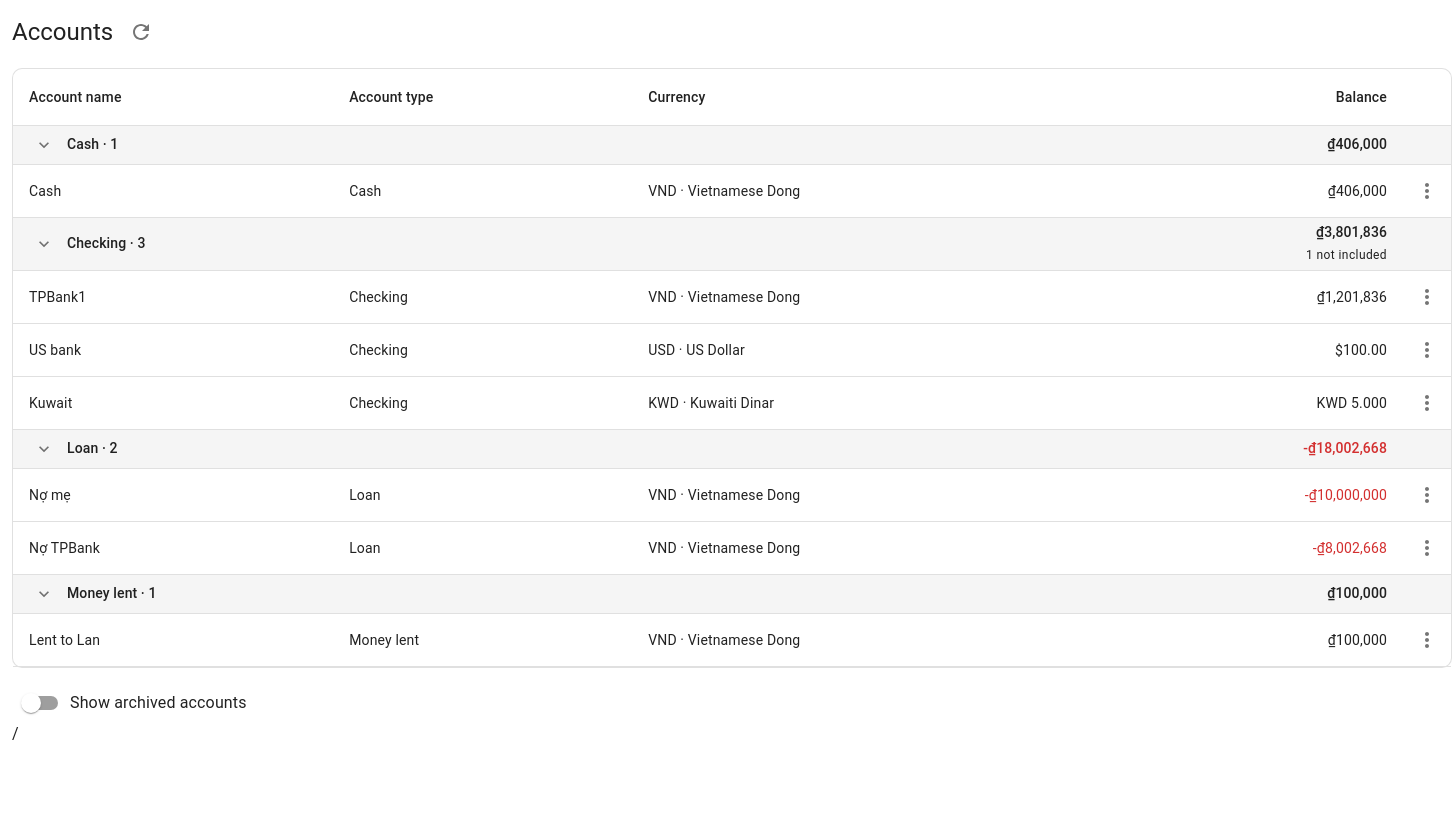
it: pinning accounts to the Overview (waterflow#74, waterflow#88) › on desktop › lets a viewer pin too: a pin is their own view
Click the 1st button named "Account actions".
click(1427, 191)  # box [1407, 171, 1447, 211]
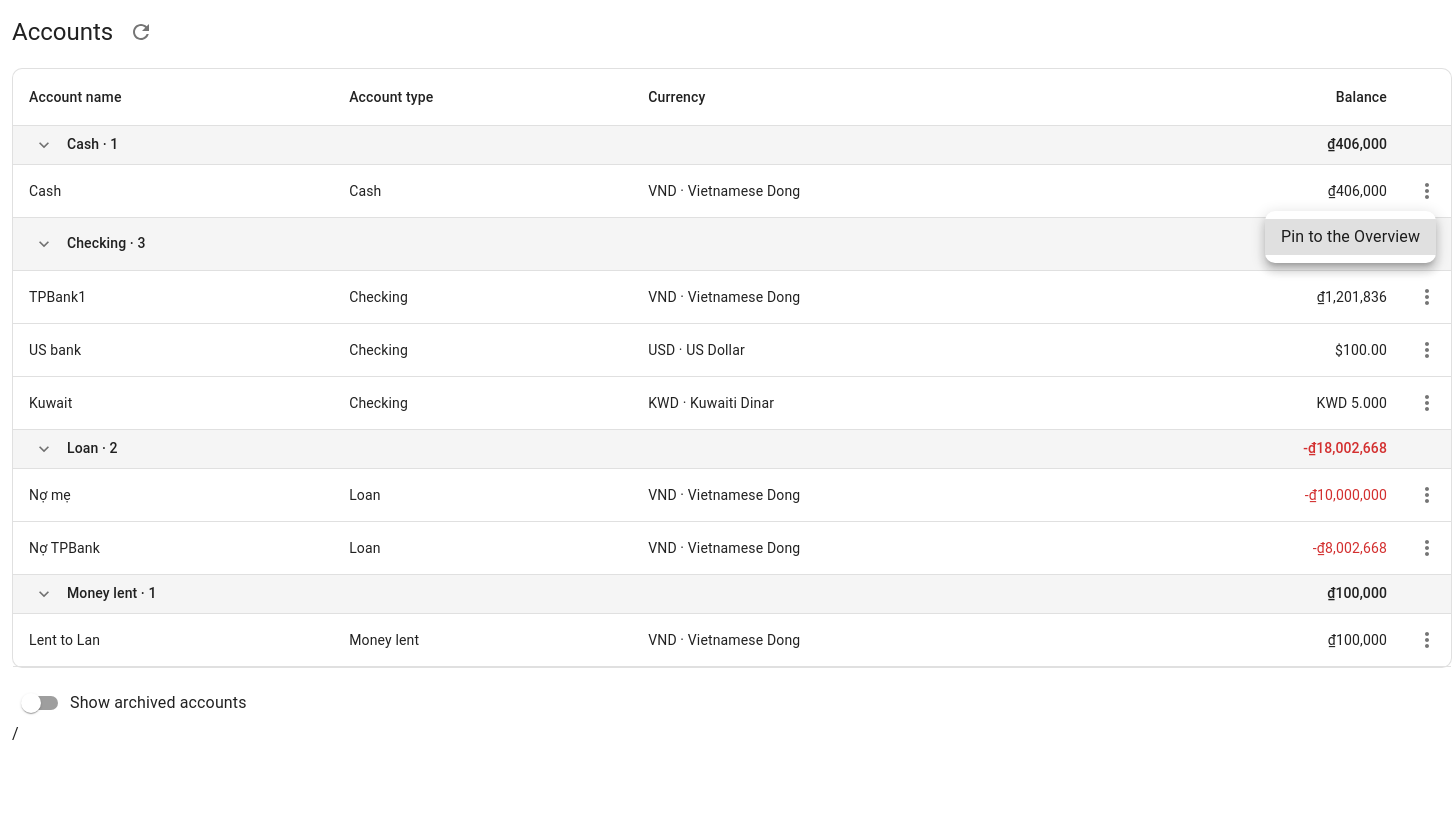
Check: the menu items read "Pin to the Overview", in this order, box [1265, 219, 1436, 255]
